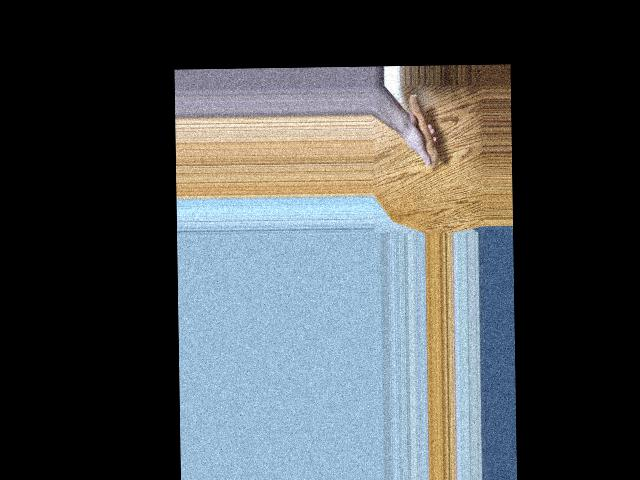sweet_potato: (406, 93, 441, 168)
